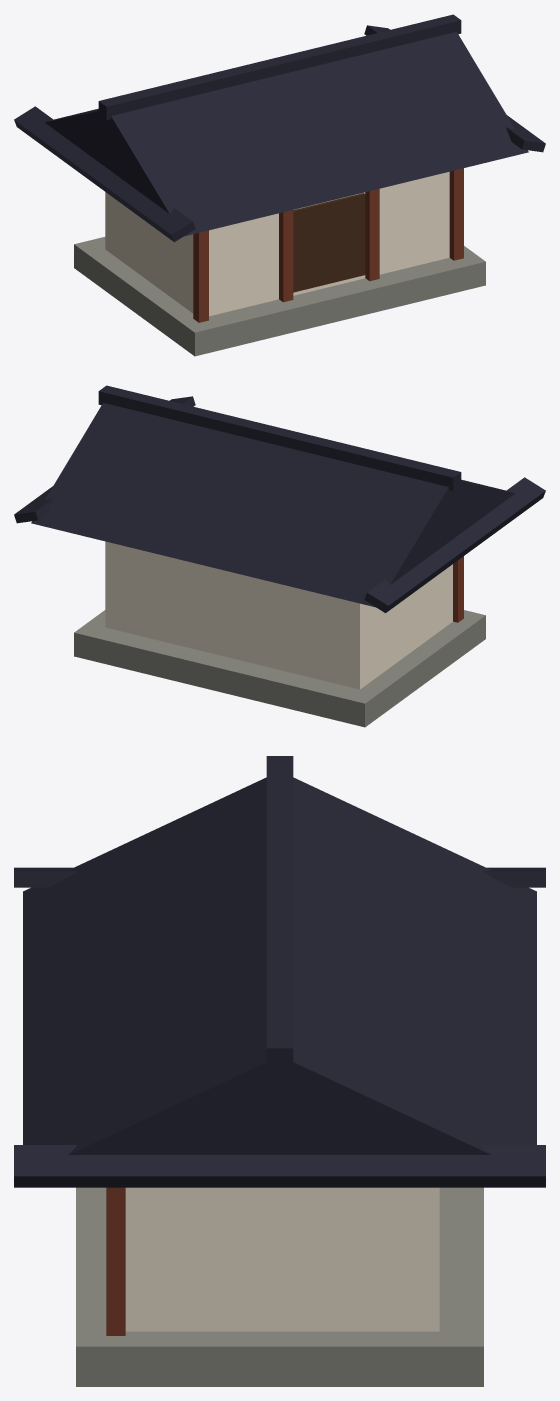
The model's file is prop_giwa.glb.
3 renders of one model, top to bottom at view 1: azimuth 30°, elevation 25°; view 2: azimuth 150°, elevation 25°; view 3: azimuth 270°, elevation 25°, orthographic. The views are drawn at different scales.
Parts seen in each view (by area): view 1: prop_giwa; view 2: prop_giwa; view 3: prop_giwa.
Part boxes in pixels (left/top/right/bottom): prop_giwa: left=14, top=14, right=545, bottom=356; prop_giwa: left=14, top=385, right=545, bottom=727; prop_giwa: left=14, top=756, right=545, bottom=1386.
Size of the model in its own units: 8.23 by 4.54 by 6.
